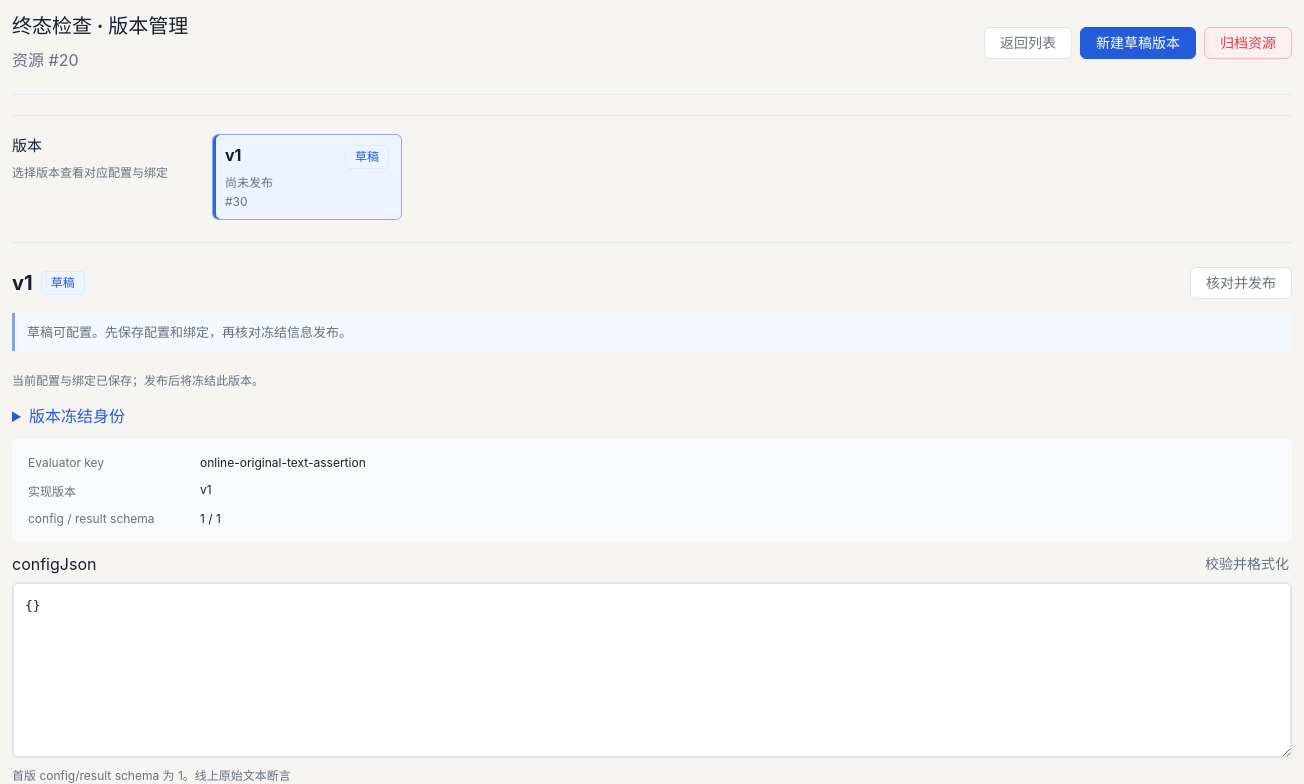
Test: catalog editing and frozen contracts › 发布线上规则 online-original-text-assertion 后保持全文只读
The image size is (1304, 784).
Click the button "核对并发布" at [1241, 283], box [1190, 267, 1292, 299]
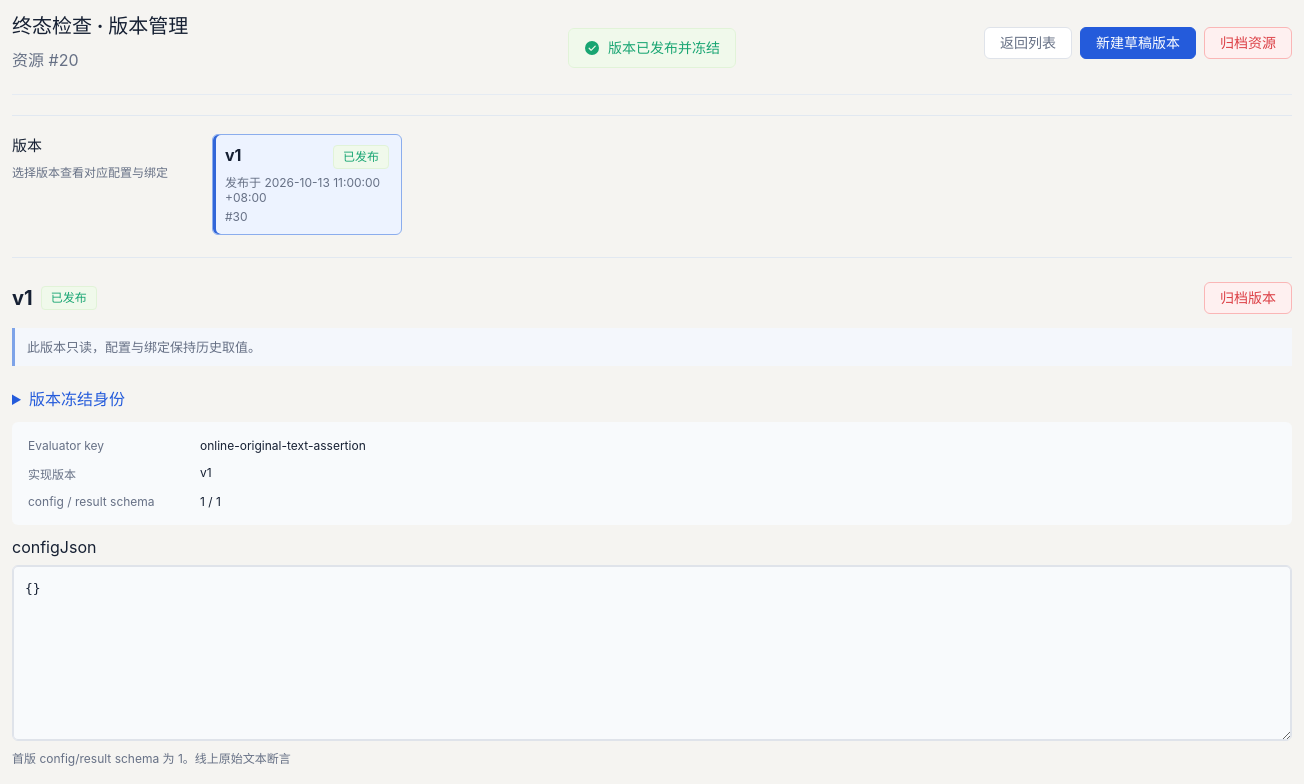
Expected: the text "此版本只读" is shown, [27, 339, 261, 355]
